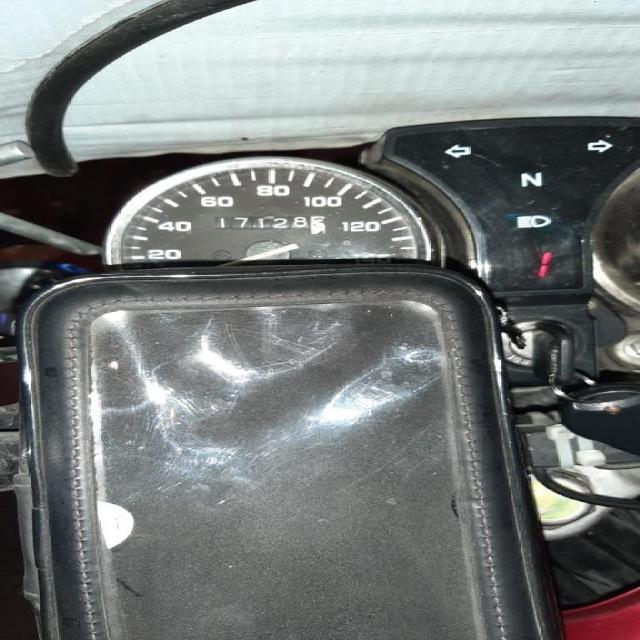odometer: (212, 214, 328, 236)
